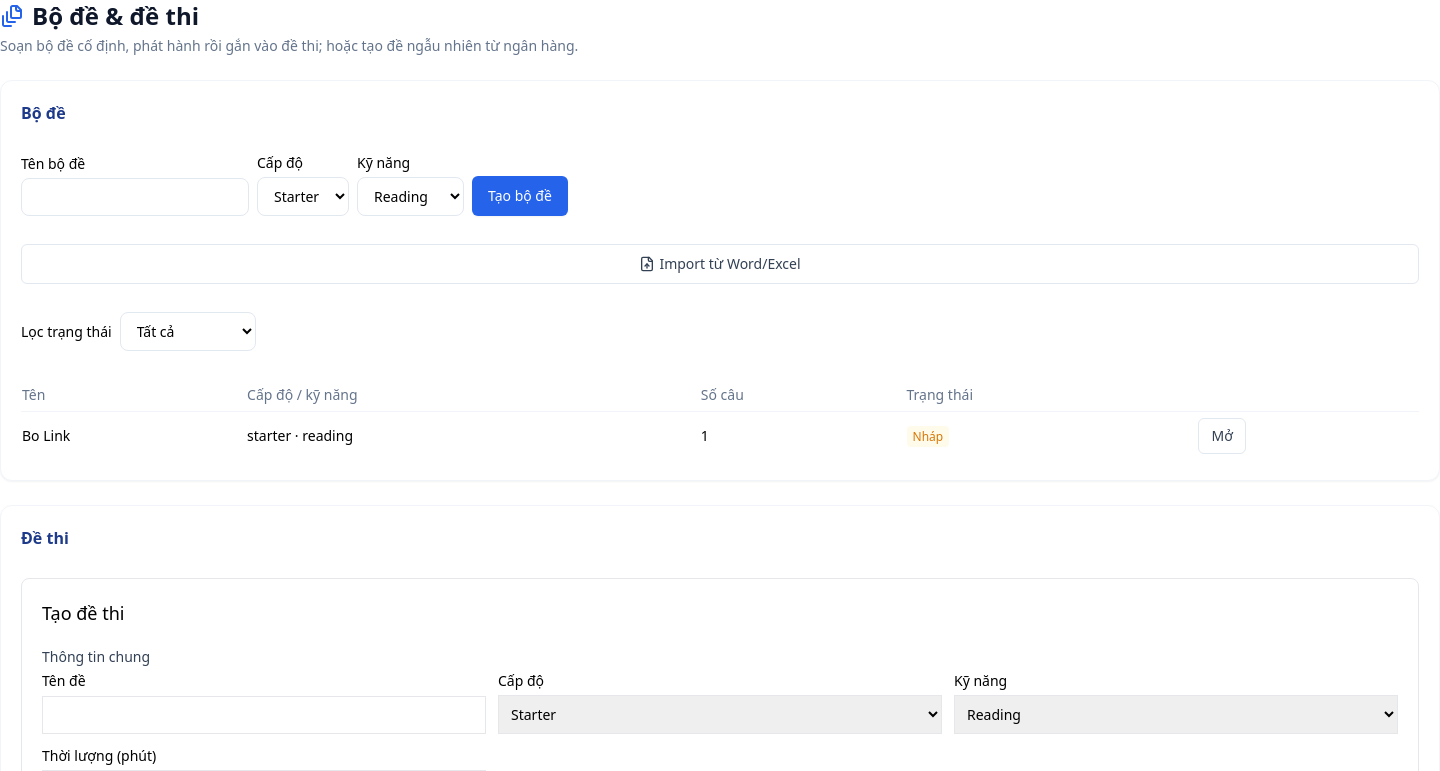
Test case: ExamSetsPage slice-21 lien ket cau hoi › xem truoc bo de hien cau theo thu tu va khong lo dap an
The image size is (1440, 771).
Step 1. Click the button "Mở" → (1222, 436), box [1198, 418, 1246, 454]
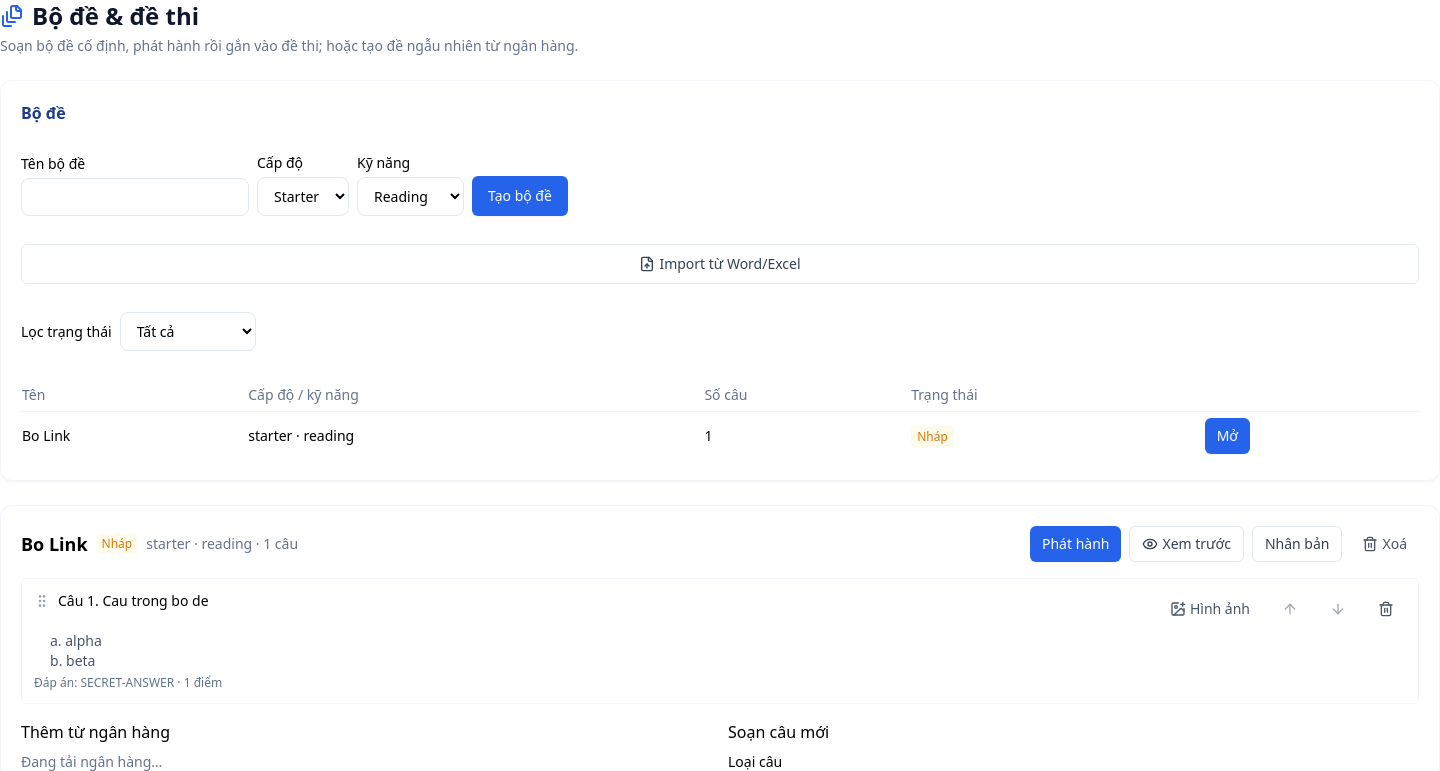
Step 2. Click the button with aria-label "Xem trước bộ đề" → (1187, 544), box [1130, 526, 1244, 562]
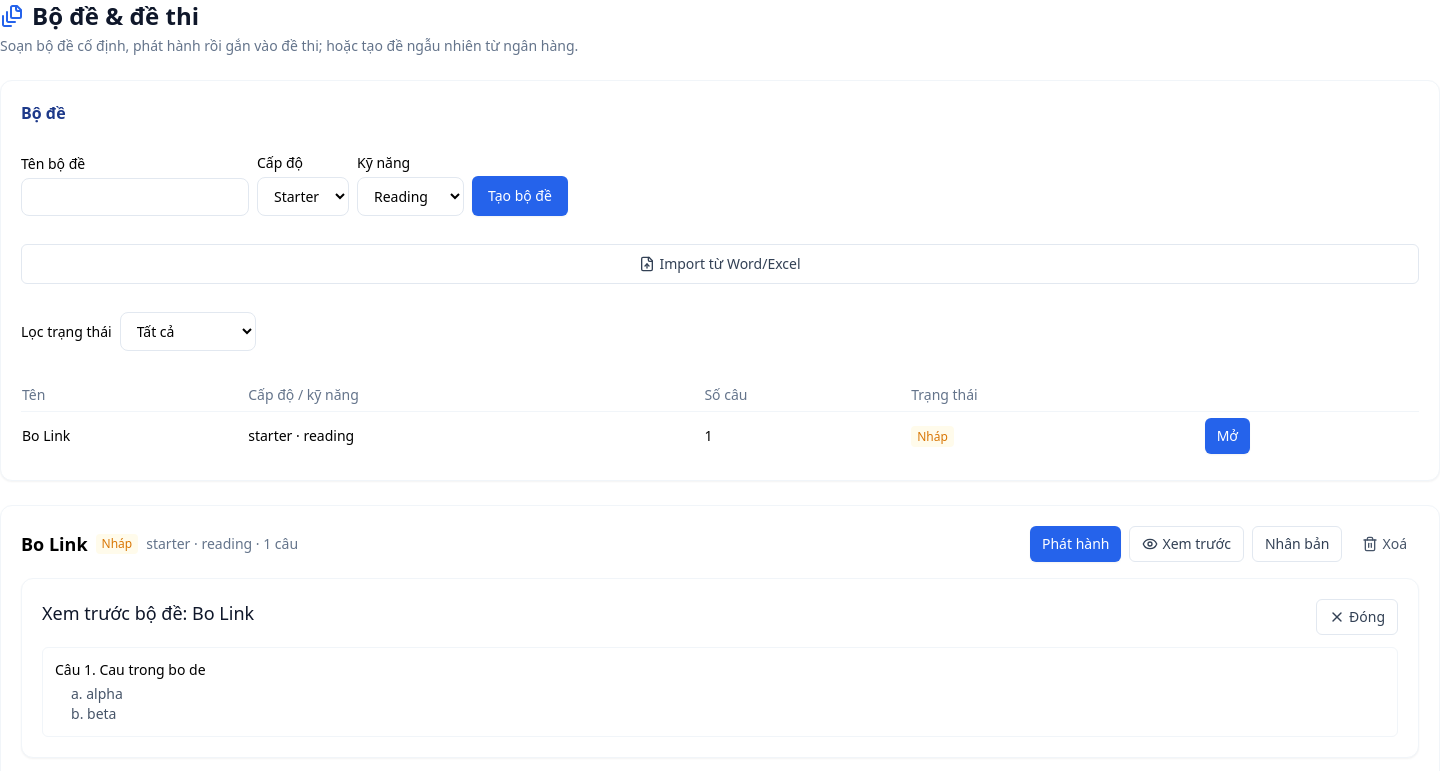
Expected: the text "SECRET-ANSWER" is not shown
Expected: the text "Câu 1. Cau trong bo de" below "Xem trước bộ đề:" is shown, [55, 660, 206, 679]
